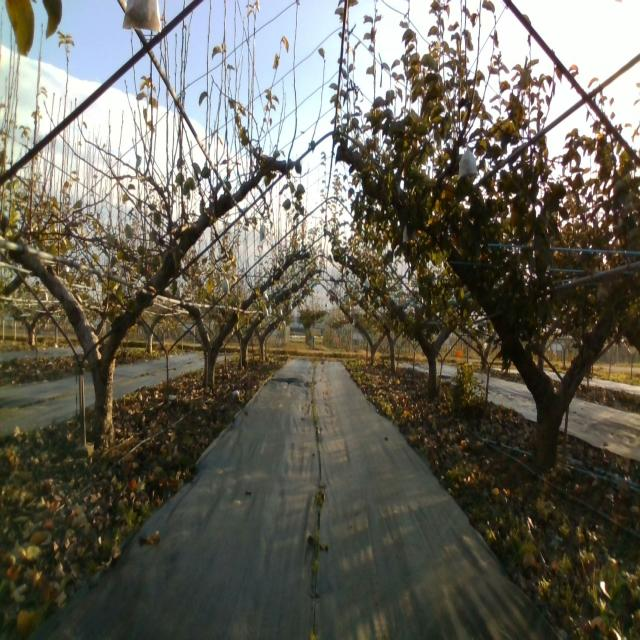pearbags: (456, 143, 479, 179)
